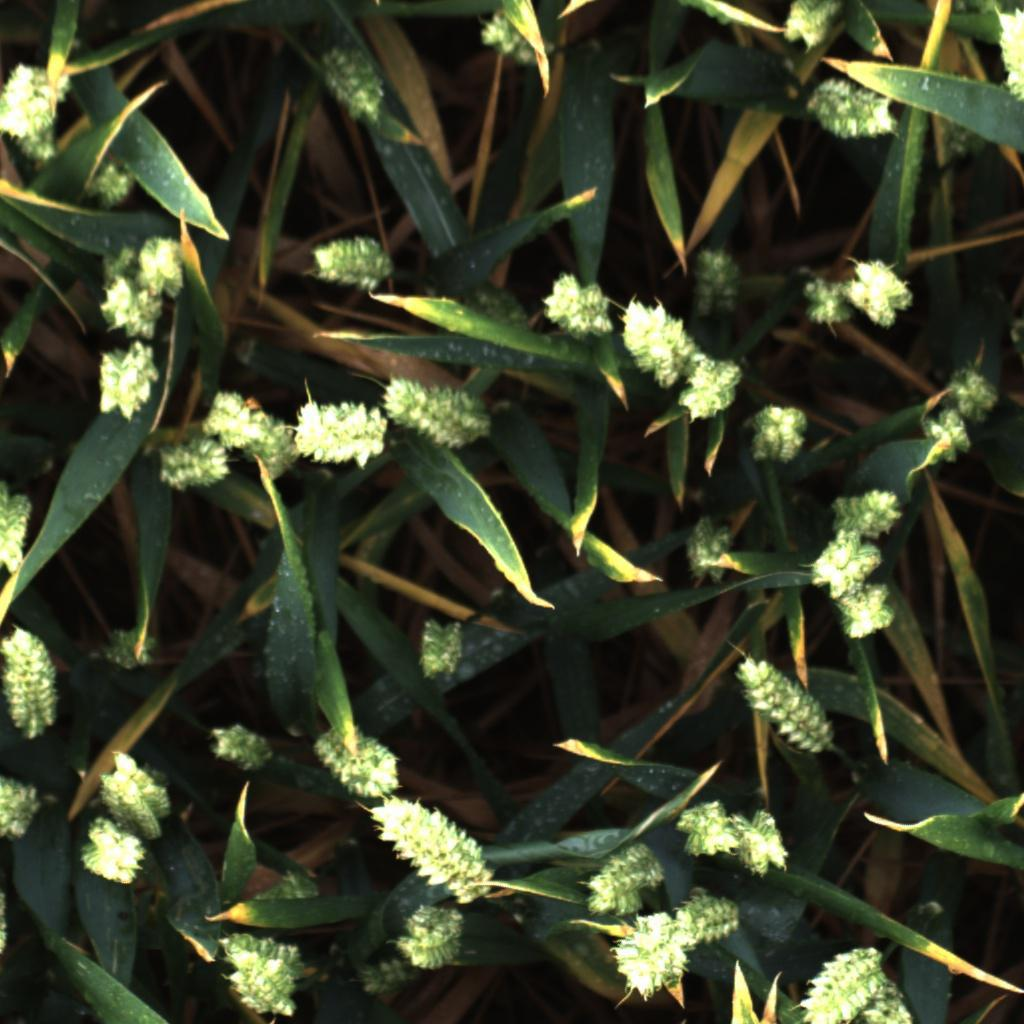0-0: (367, 796, 495, 902), (727, 648, 836, 756), (310, 16, 390, 128), (601, 904, 690, 1002), (204, 389, 301, 476), (380, 374, 491, 450), (614, 295, 700, 387), (792, 938, 883, 1024), (218, 928, 325, 998), (579, 829, 668, 913), (0, 624, 62, 739), (1, 55, 70, 157), (807, 70, 899, 144), (299, 398, 388, 471), (314, 723, 397, 800), (91, 260, 167, 341), (97, 744, 167, 830), (807, 522, 883, 598), (76, 813, 152, 888), (846, 252, 920, 329), (673, 507, 741, 587), (538, 272, 615, 342), (92, 345, 159, 424), (308, 235, 396, 295), (227, 948, 301, 1019), (685, 245, 751, 321), (745, 397, 813, 470), (474, 6, 556, 66), (396, 903, 467, 971), (679, 349, 741, 426), (728, 808, 794, 878), (837, 576, 901, 646), (412, 608, 472, 681), (832, 480, 907, 538), (942, 359, 1006, 426), (156, 439, 233, 494), (675, 795, 736, 861), (669, 890, 742, 943), (798, 271, 860, 333), (208, 719, 275, 775), (918, 408, 976, 469), (132, 237, 187, 299), (852, 978, 925, 1024), (0, 477, 33, 578), (780, 0, 842, 53), (95, 624, 162, 673), (87, 151, 140, 211), (242, 861, 319, 902), (997, 7, 1024, 120), (0, 773, 42, 841), (360, 954, 415, 1001)
